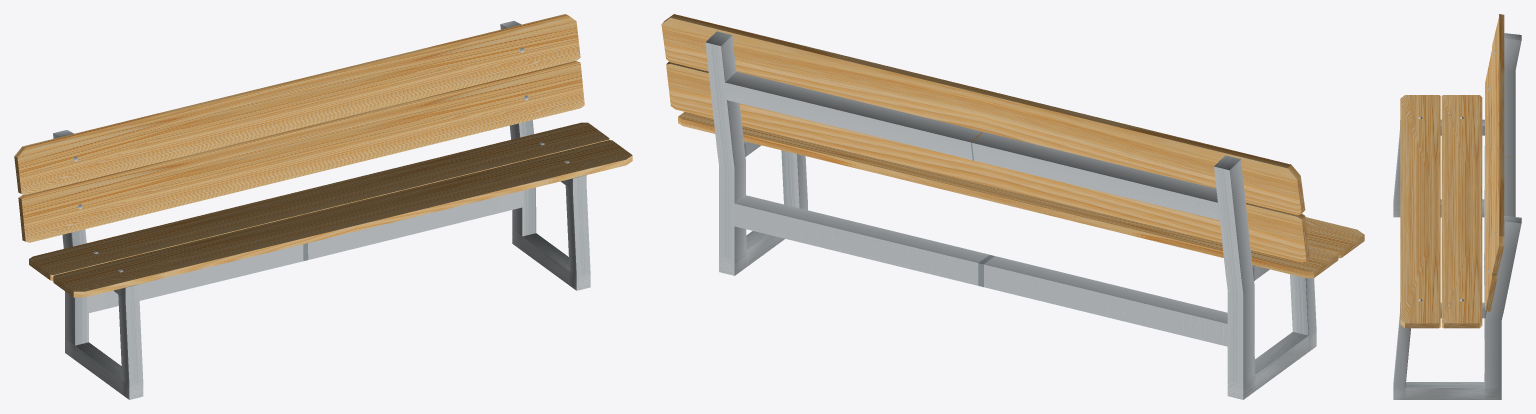
File: bancajardin.obj
3 renders of one model, left to right at view 1: azimuth 30°, elevation 25°; view 2: azimuth 150°, elevation 25°; view 3: azimuth 270°, elevation 25°, orthographic. The views are drawn at different scales.
Parts seen in each view (by area): view 1: Cylinder_003, Soporte; view 2: Cylinder_003, Soporte; view 3: Cylinder_003, Soporte.
Part boxes in pixels (x1,y1,x2,y2): Cylinder_003: [14, 14, 632, 297]; Soporte: [53, 21, 590, 399]; Cylinder_003: [661, 14, 1364, 278]; Soporte: [705, 31, 1316, 399]; Cylinder_003: [1400, 14, 1514, 328]; Soporte: [1393, 33, 1521, 399].
Size of the model in its own units: 42.75 by 15.78 by 10.13.
